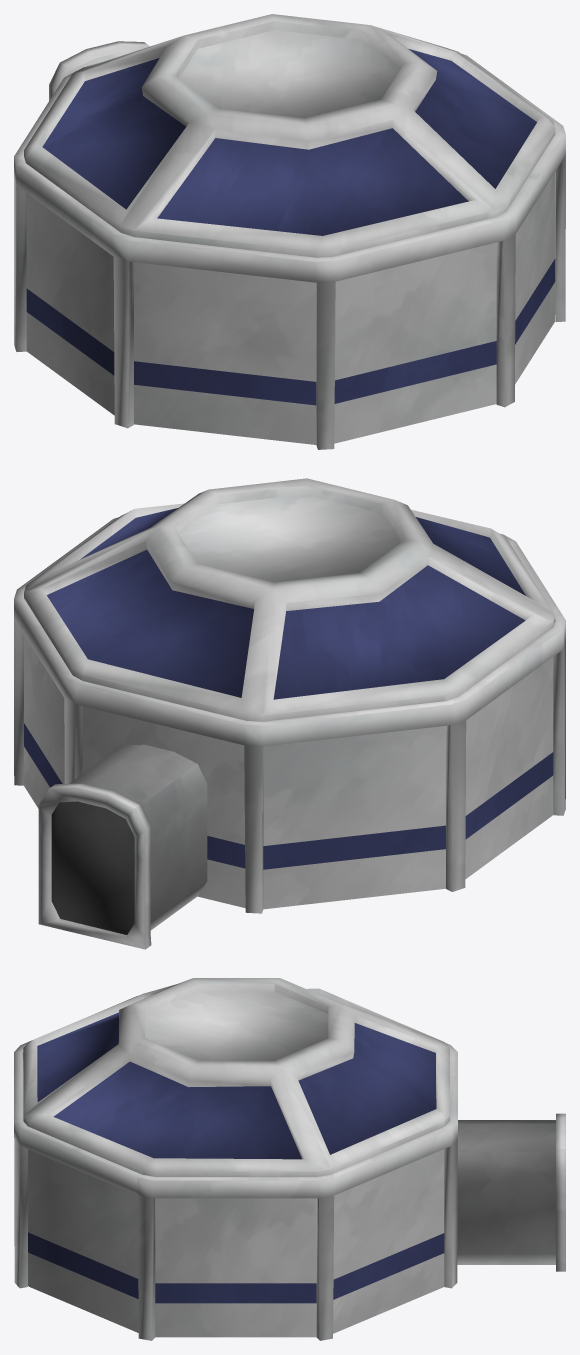
File: Habitat_02.glb
3 views of the same model, one above another, from view 1: azimuth 30°, elevation 25°; view 2: azimuth 150°, elevation 25°; view 3: azimuth 270°, elevation 25° (orthographic). The views are drawn at different scales.
Parts seen in each view (by area): view 1: Habitat02; view 2: Habitat02; view 3: Habitat02.
Part boxes in pixels (x1=…): Habitat02: x1=14, y1=14, x2=565, y2=449; Habitat02: x1=14, y1=478, x2=565, y2=949; Habitat02: x1=14, y1=978, x2=565, y2=1340.
Size of the model in its own units: 309 by 173 by 384.
Materials: 1 (1 with a texture image).
